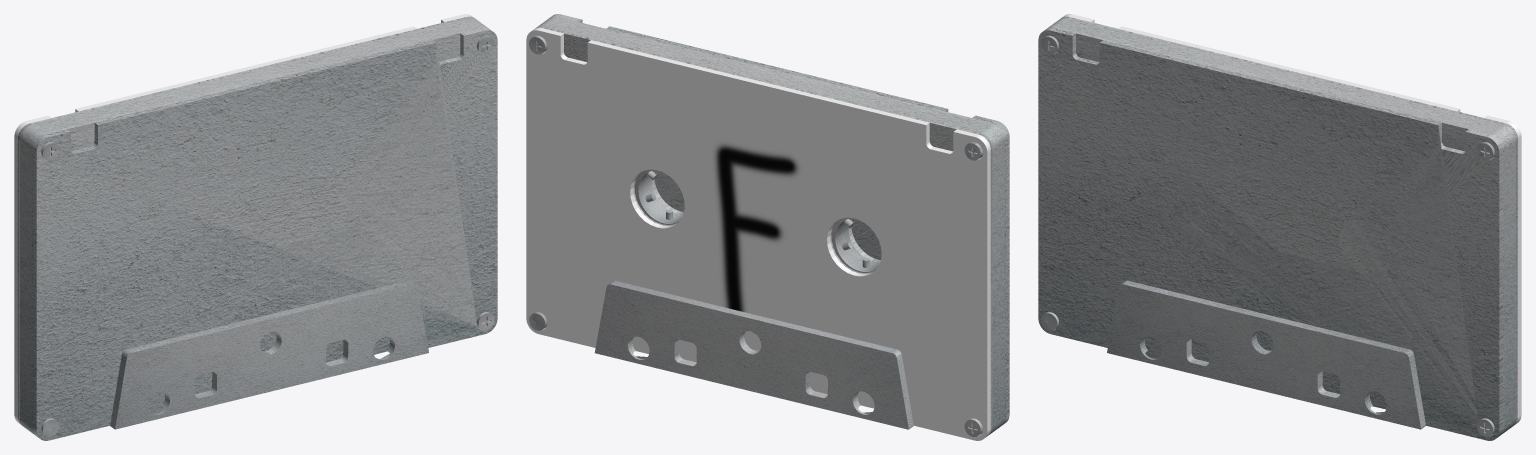
File: tester-dimension-casette.glb
3 renders of one model, left to right at view 1: azimuth 30°, elevation 25°; view 2: azimuth 150°, elevation 25°; view 3: azimuth 330°, elevation 25°, orthographic.
Parts seen in each view (by area): view 1: front_top_plate, front_canal, middle_main_extrustion, back_top_plate, front_middle_layer, back_middle_layer; view 2: back_top_plate, back_canal, middle_main_extrustion, front_top_plate, back_middle_layer, teeth_ring_outer_&_teeth_ring_hole_&_film_roll_left_&_film_r (×2), front_middle_layer; view 3: front_top_plate, front_canal, middle_main_extrustion, back_top_plate, front_middle_layer, back_middle_layer.
Part boxes in pixels (<box>): front_top_plate: <box>33,27,497,440</box>; front_canal: <box>110,280,428,429</box>; middle_main_extrustion: <box>19,17,486,433</box>; back_top_plate: <box>14,14,473,424</box>; front_middle_layer: <box>31,26,488,435</box>; back_middle_layer: <box>17,16,475,425</box>; back_top_plate: <box>526,27,990,440</box>; back_canal: <box>594,280,913,429</box>; middle_main_extrustion: <box>537,17,1004,434</box>; front_top_plate: <box>550,14,1009,424</box>; back_middle_layer: <box>535,26,992,435</box>; teeth_ring_outer_&_teeth_ring_hole_&_film_roll_left_&_film_r (×2): <box>634,169,879,272</box>; front_middle_layer: <box>550,16,1005,425</box>; front_top_plate: <box>1038,27,1502,440</box>; front_canal: <box>1107,280,1425,429</box>; middle_main_extrustion: <box>1048,17,1516,433</box>; back_top_plate: <box>1062,14,1521,424</box>; front_middle_layer: <box>1047,26,1504,435</box>; back_middle_layer: <box>1061,16,1518,425</box>.
Bounding box in the file's own units: 2.32 × 1.46 × 0.2824.
Materials: 2 (2 with a texture image).
